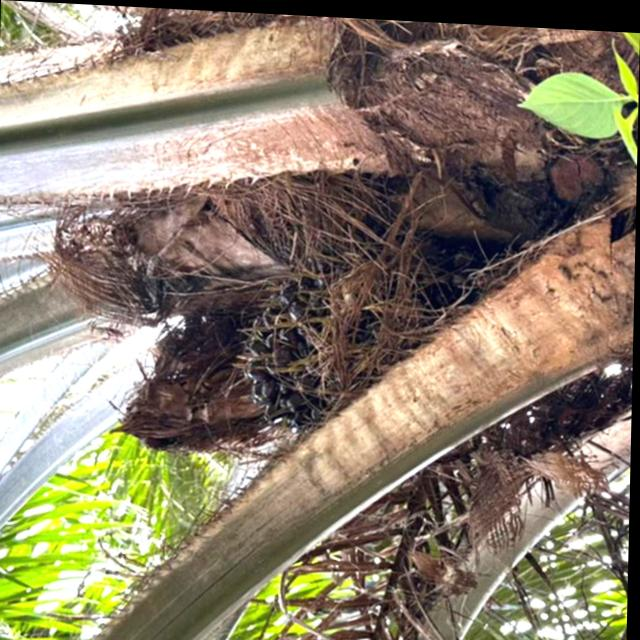unripe: (229, 172, 525, 449)
